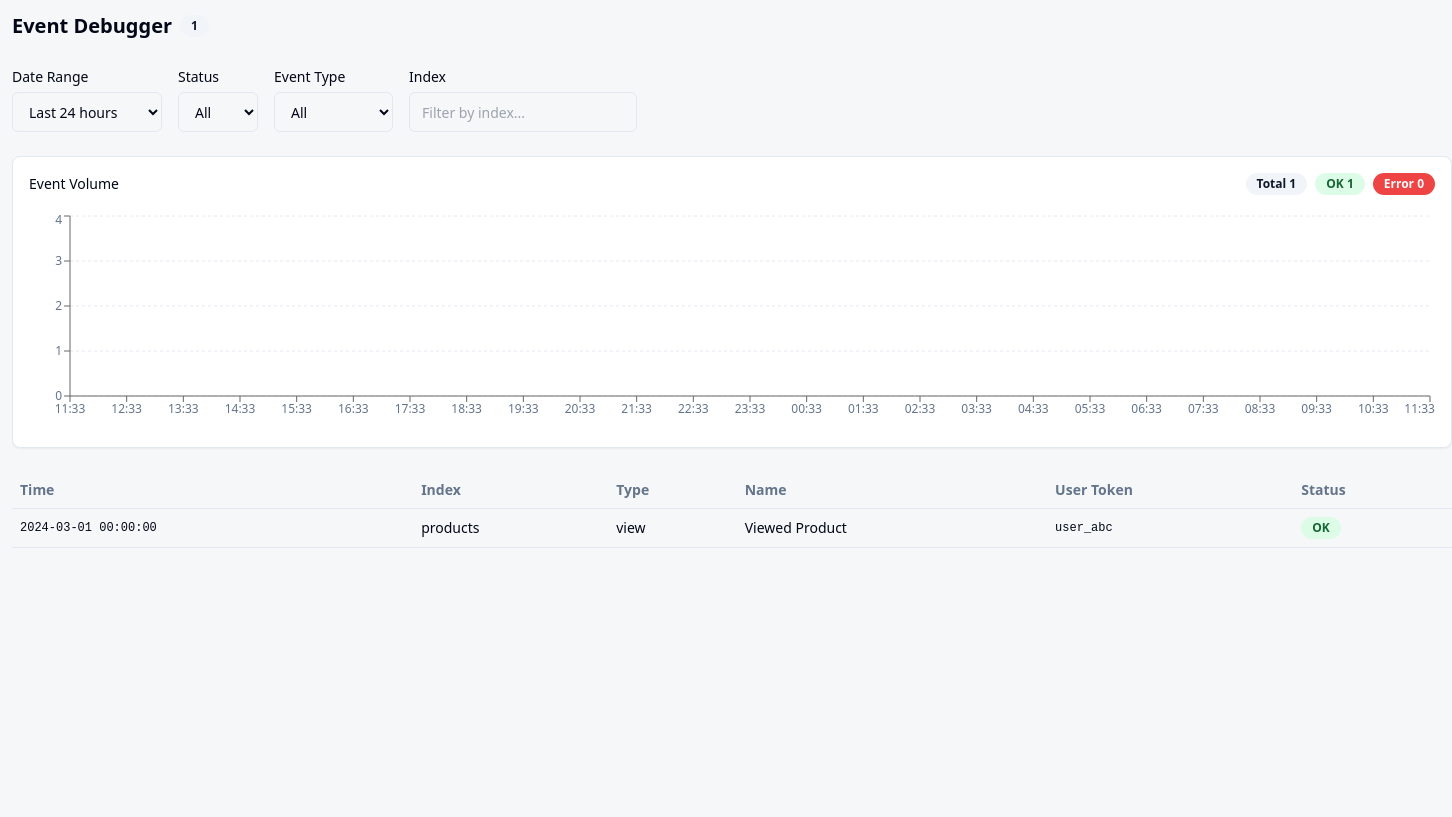
EventDebugger › shows event detail when clicking a row
Step 1. Click the row with test id "event-row" → (732, 528), box [12,508,1451,548]
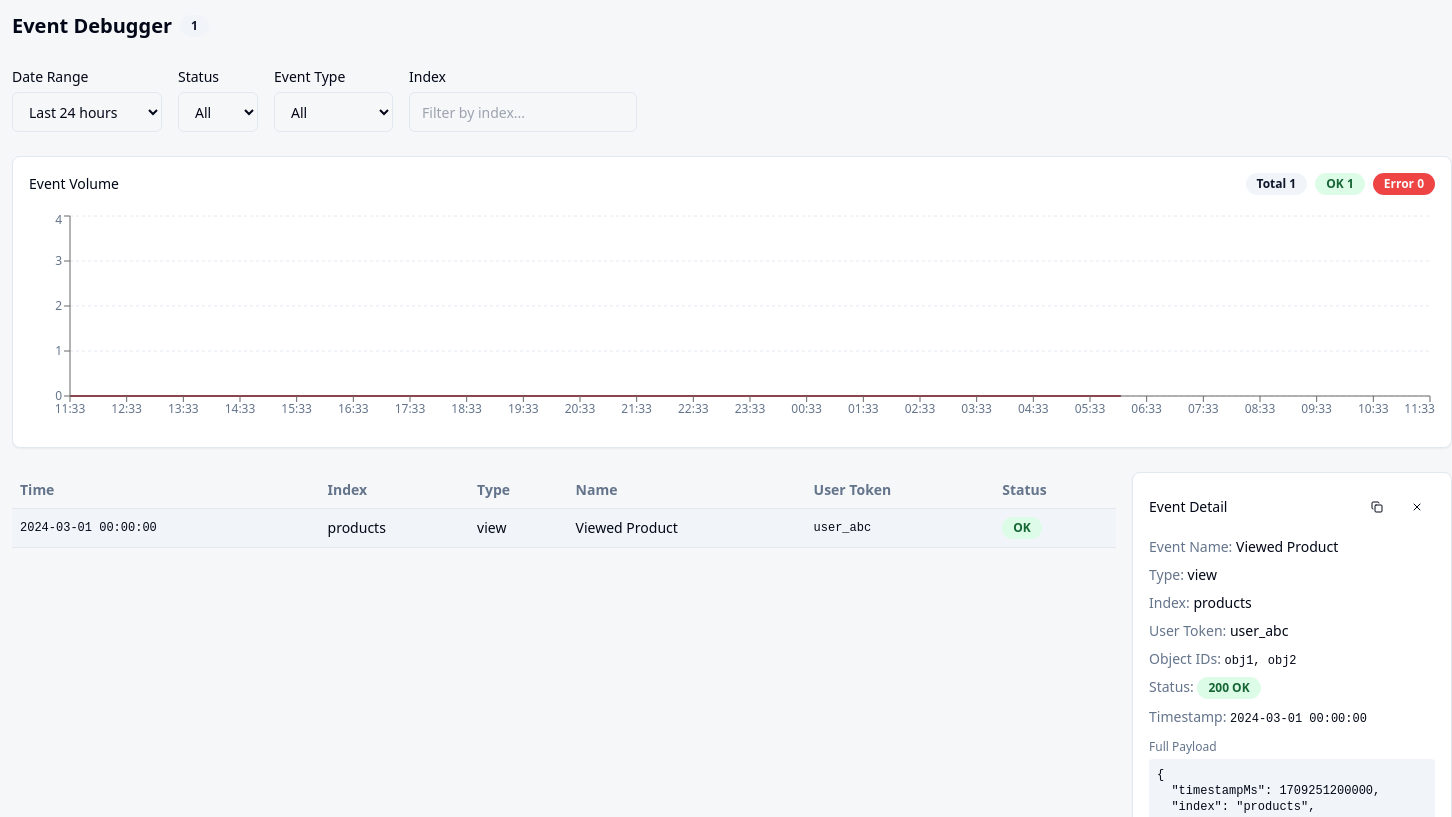
Check: the text "Viewed Product" is shown, box [1236,537,1338,556]
Check: the text "user_abc" is shown, box [1230,621,1288,640]
